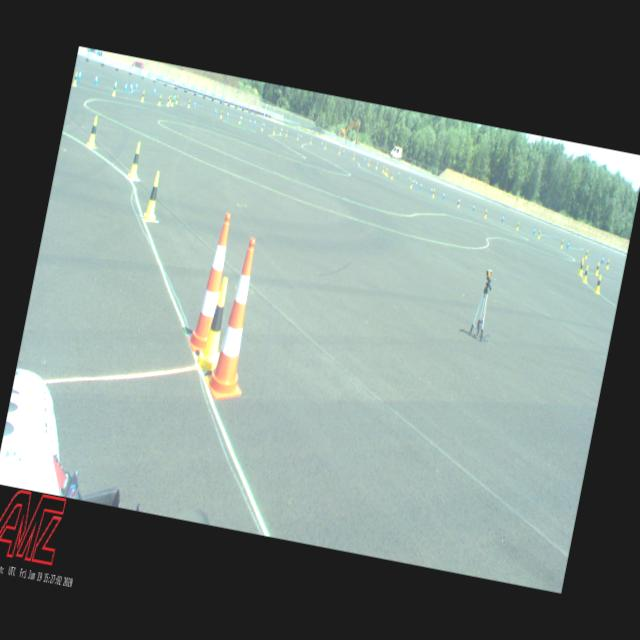blue_cone: (78, 68, 83, 82), (113, 78, 118, 90), (94, 74, 98, 86), (124, 81, 128, 92), (130, 83, 134, 94), (130, 81, 134, 92), (601, 254, 605, 264), (456, 198, 461, 206), (532, 227, 536, 236), (419, 181, 423, 190), (153, 86, 157, 95), (134, 82, 138, 91), (566, 240, 570, 249), (472, 203, 476, 212), (412, 178, 416, 186), (501, 214, 505, 222), (173, 94, 177, 102), (227, 110, 230, 120), (248, 118, 252, 125), (240, 115, 243, 124), (442, 192, 445, 200), (262, 122, 266, 128), (342, 148, 345, 156), (130, 88, 134, 94), (408, 175, 411, 182), (215, 108, 218, 115), (431, 187, 434, 194), (415, 180, 418, 187), (281, 128, 284, 135), (321, 141, 324, 147), (194, 100, 196, 108), (398, 170, 400, 178), (364, 157, 366, 164), (254, 120, 256, 126), (300, 134, 302, 140)
large_orange_cone: (202, 235, 271, 403), (185, 210, 235, 354)
yellow_cone: (196, 275, 234, 370), (142, 170, 164, 223), (127, 142, 144, 182), (86, 115, 100, 149), (594, 274, 603, 294), (582, 266, 590, 284), (578, 260, 585, 276), (72, 72, 79, 87), (578, 257, 585, 272), (140, 89, 146, 103), (594, 262, 600, 275), (112, 85, 118, 96), (158, 94, 162, 106), (383, 167, 388, 176), (484, 208, 488, 219), (606, 259, 610, 270), (390, 170, 394, 180), (516, 221, 520, 231), (171, 96, 175, 106), (584, 250, 588, 259), (457, 199, 461, 208), (560, 240, 564, 249), (538, 230, 542, 239), (188, 99, 192, 108), (176, 95, 180, 104), (409, 180, 413, 189), (260, 123, 264, 132), (168, 95, 172, 104), (375, 162, 379, 170), (238, 116, 242, 124), (324, 142, 328, 150), (432, 190, 436, 198), (167, 96, 170, 106), (296, 133, 300, 140), (220, 110, 223, 118), (352, 154, 356, 160), (386, 168, 389, 176), (273, 127, 276, 135), (285, 130, 288, 137), (382, 166, 385, 173), (279, 128, 282, 135), (338, 148, 341, 154), (368, 160, 370, 167), (310, 138, 312, 145)
